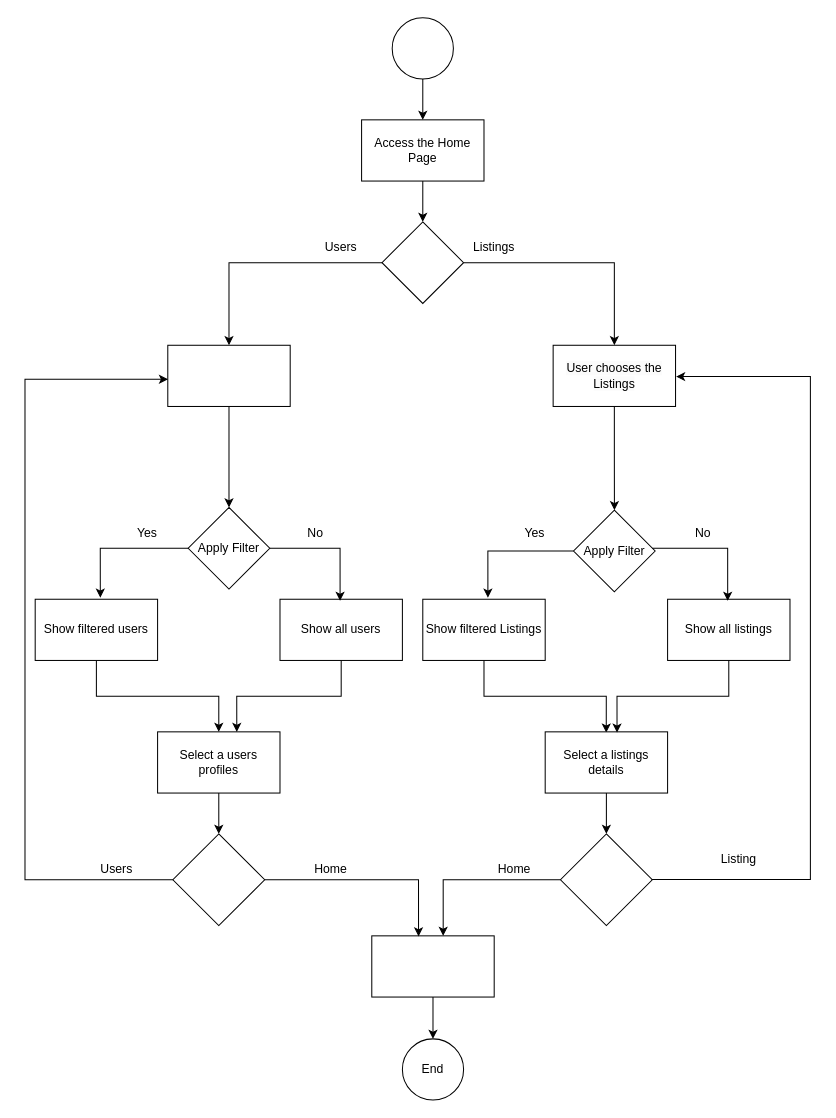
Image size: 836x1118. Some labels were removed from this diagram. The shapes that lost their labels are listed below. From the top down, each one's centre as x and y in pixels, then its label:
pixel 422 48: Start
pixel 422 262: Choose users or listings
pixel 228 375: User chooses the Users
pixel 218 879: Return to home or users page
pixel 605 879: Return to home or listings page
pixel 432 966: Home page
